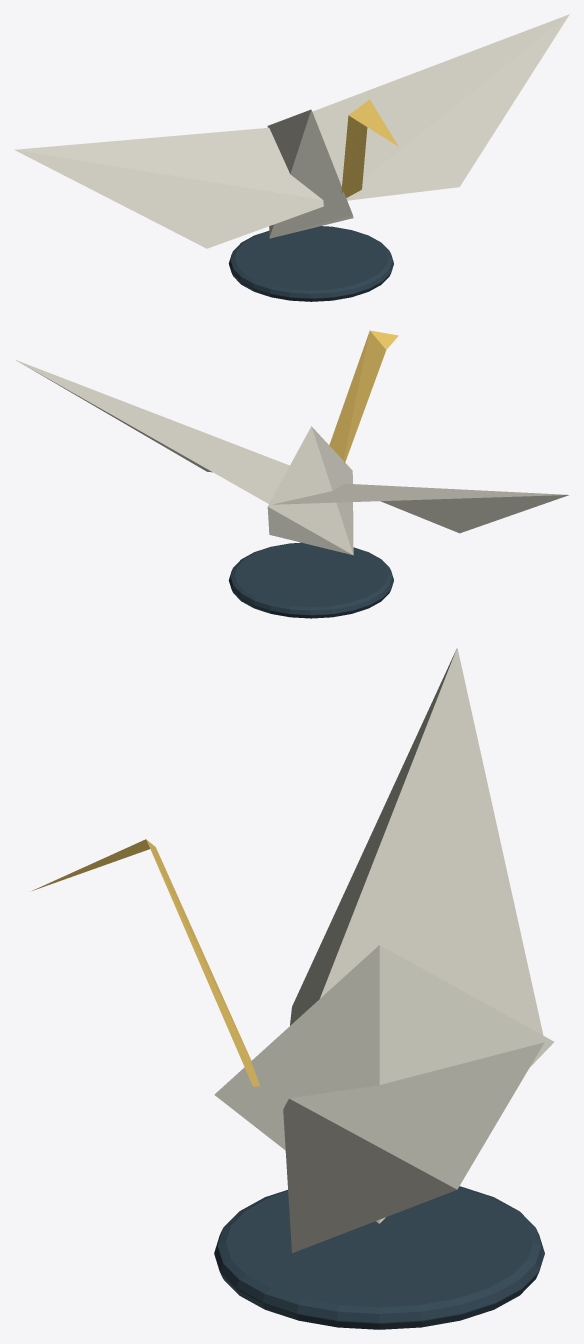
File: hat_crane.glb
3 renders of one model, top to bottom at view 1: azimuth 30°, elevation 25°; view 2: azimuth 150°, elevation 25°; view 3: azimuth 270°, elevation 25°, orthographic. The views are drawn at different scales.
Parts seen in each view (by area): view 1: Folded wing, Folded wing.001, Crane resting pad, Origami body, Crane neck; view 2: Crane resting pad, Folded wing.001, Origami body, Folded wing, Crane neck; view 3: Folded wing, Crane resting pad, Folded wing.001, Origami body, Crane neck.
Boxes of the visible parts, left/top/right/bottom form: Folded wing: left=14, top=127, right=323, bottom=248; Folded wing.001: left=312, top=14, right=569, bottom=200; Crane resting pad: left=228, top=226, right=393, bottom=301; Origami body: left=267, top=109, right=353, bottom=238; Crane neck: left=341, top=99, right=398, bottom=197; Crane resting pad: left=228, top=542, right=393, bottom=618; Folded wing.001: left=16, top=360, right=289, bottom=503; Origami body: left=267, top=426, right=353, bottom=555; Folded wing: left=272, top=483, right=568, bottom=533; Crane neck: left=329, top=330, right=398, bottom=464; Folded wing: left=290, top=647, right=543, bottom=1035; Crane resting pad: left=214, top=1186, right=544, bottom=1329; Folded wing.001: left=283, top=1042, right=544, bottom=1253; Origami body: left=214, top=945, right=554, bottom=1223; Crane neck: left=32, top=839, right=259, bottom=1086.
Size of the model in its own units: 1.32 by 0.4825 by 0.54.
